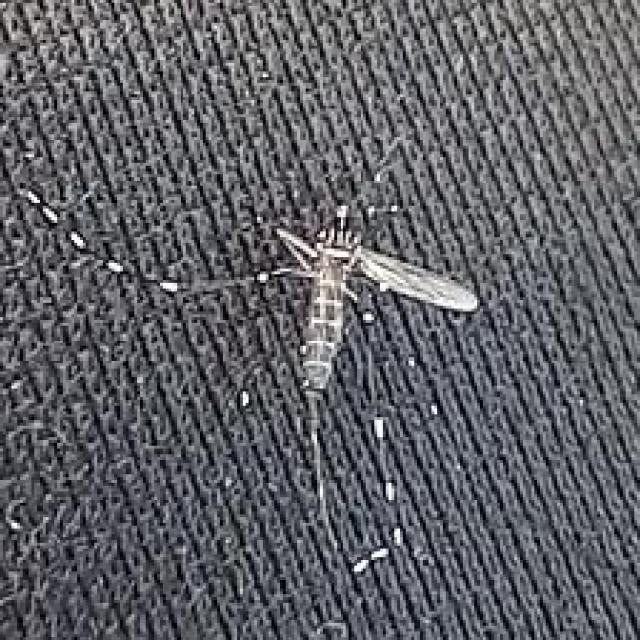Aedes albopictus: (258, 201, 482, 576)
